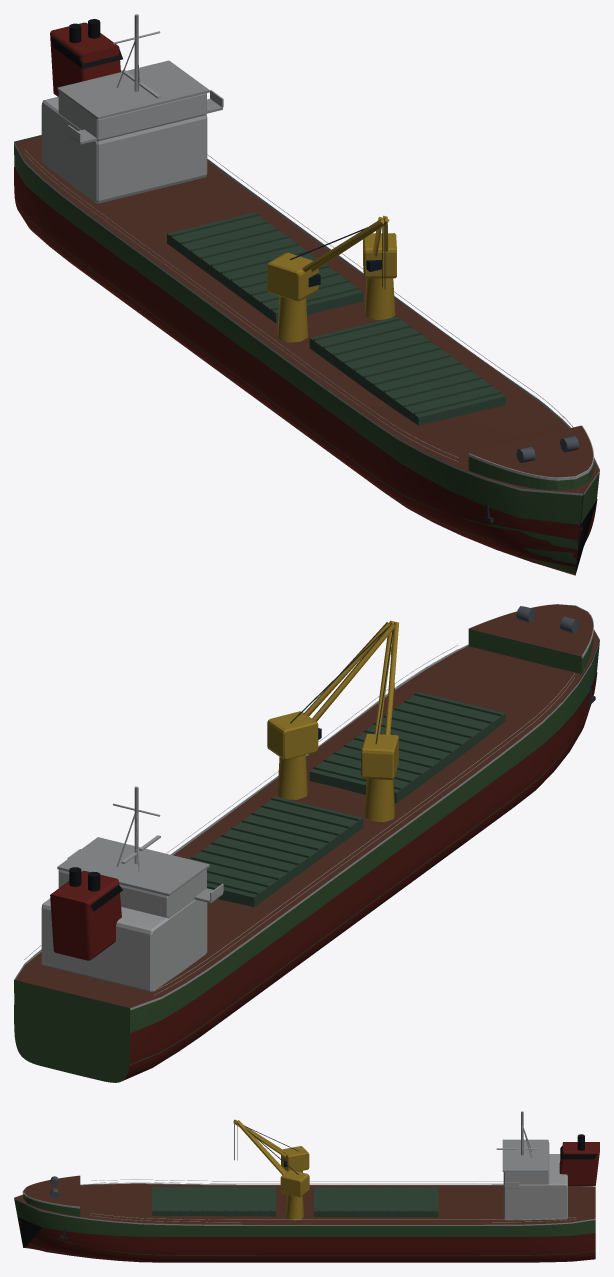
Rendered from other.glb.
3 views of the same model, one above another, from view 1: azimuth 30°, elevation 25°; view 2: azimuth 150°, elevation 25°; view 3: azimuth 270°, elevation 25° (orthographic). The views are drawn at different scales.
Size of the model in its own units: 20 by 31.48 by 123.
